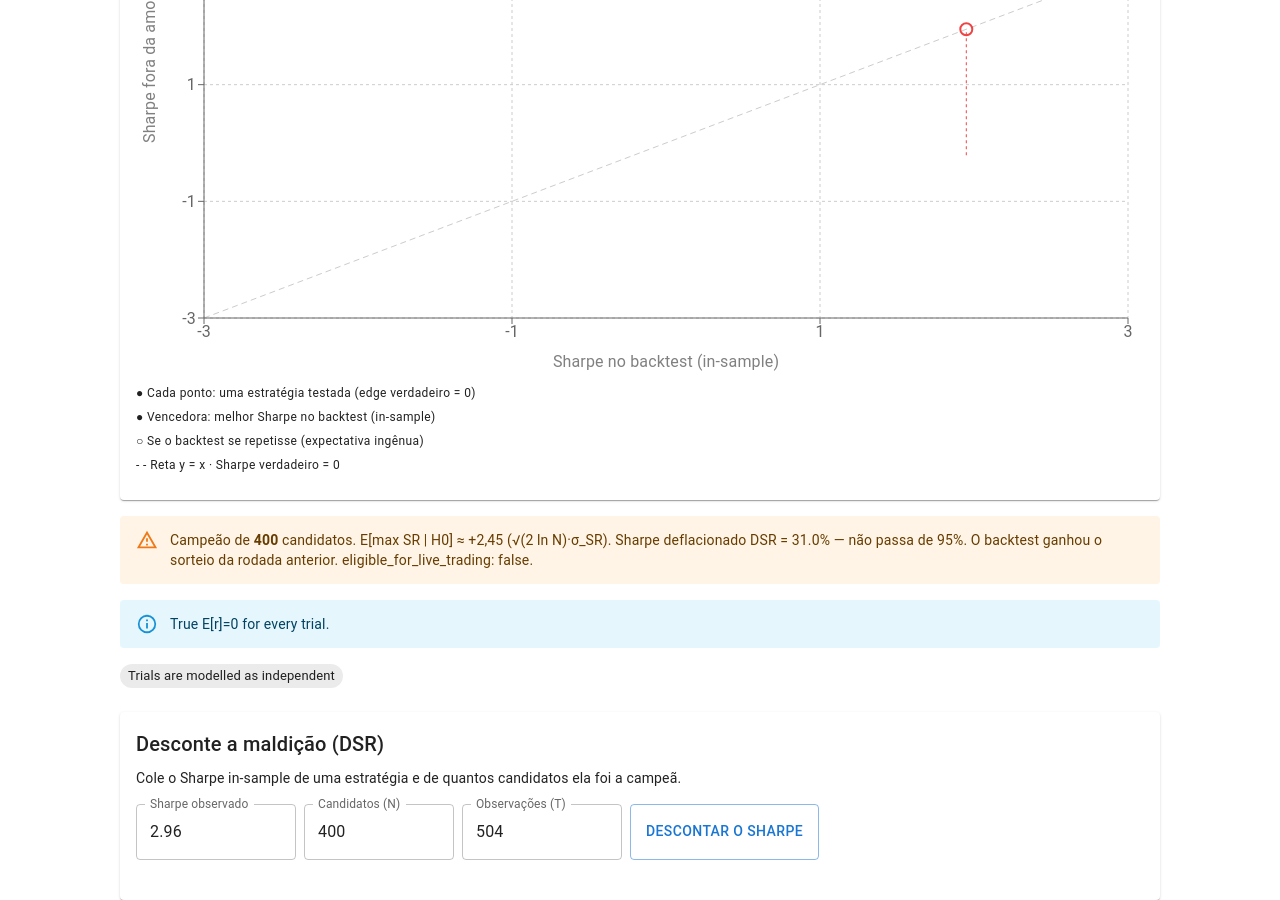
WinnerCursePage › deflates a pasted Sharpe after asking how many candidates it beat
(page scrolled)
Click the button "Descontar o Sharpe". click: coordinates (725, 832)
box: [630,804,819,860]
(page scrolled)
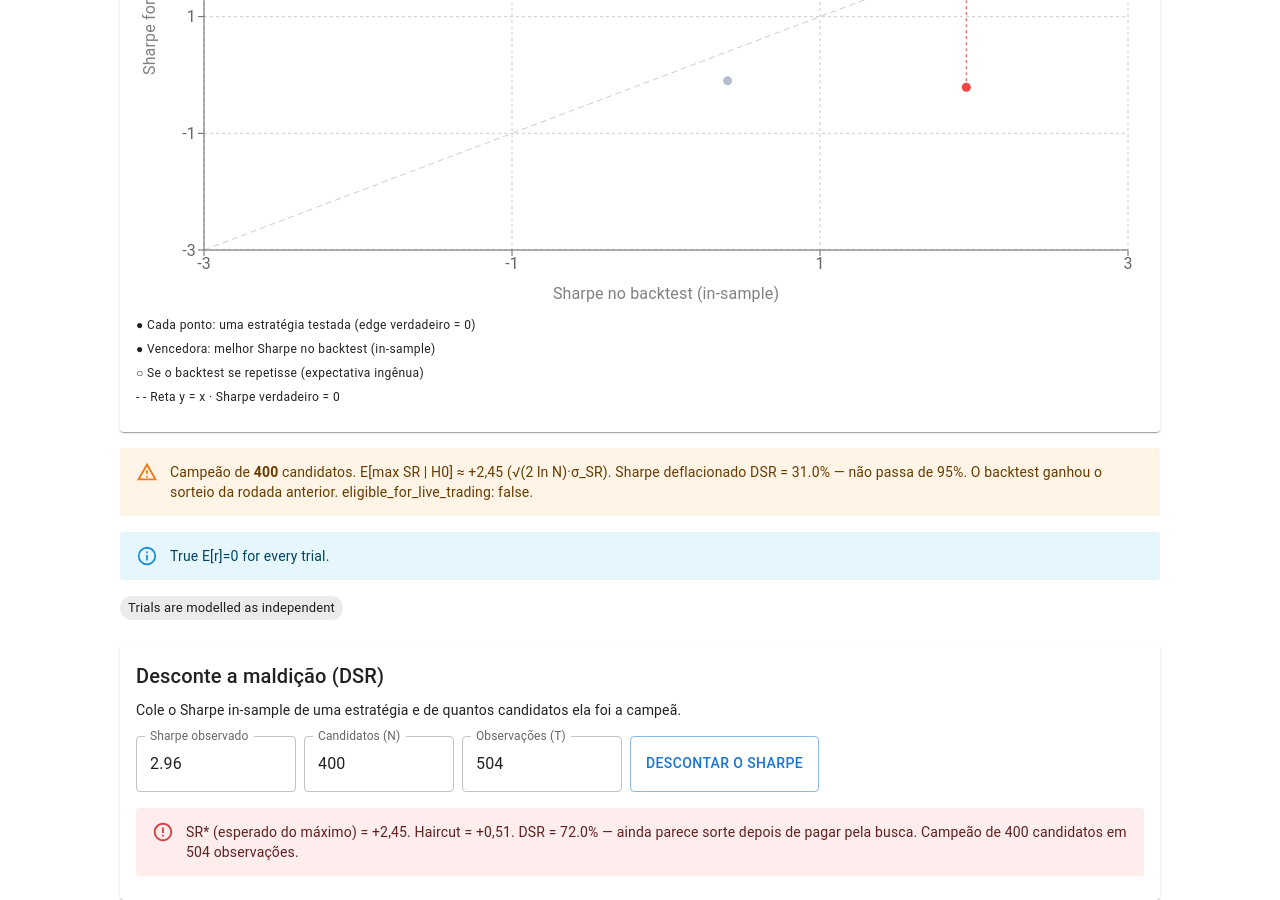
Result: the text "ainda parece sorte" is shown at [598,824,917,840]
